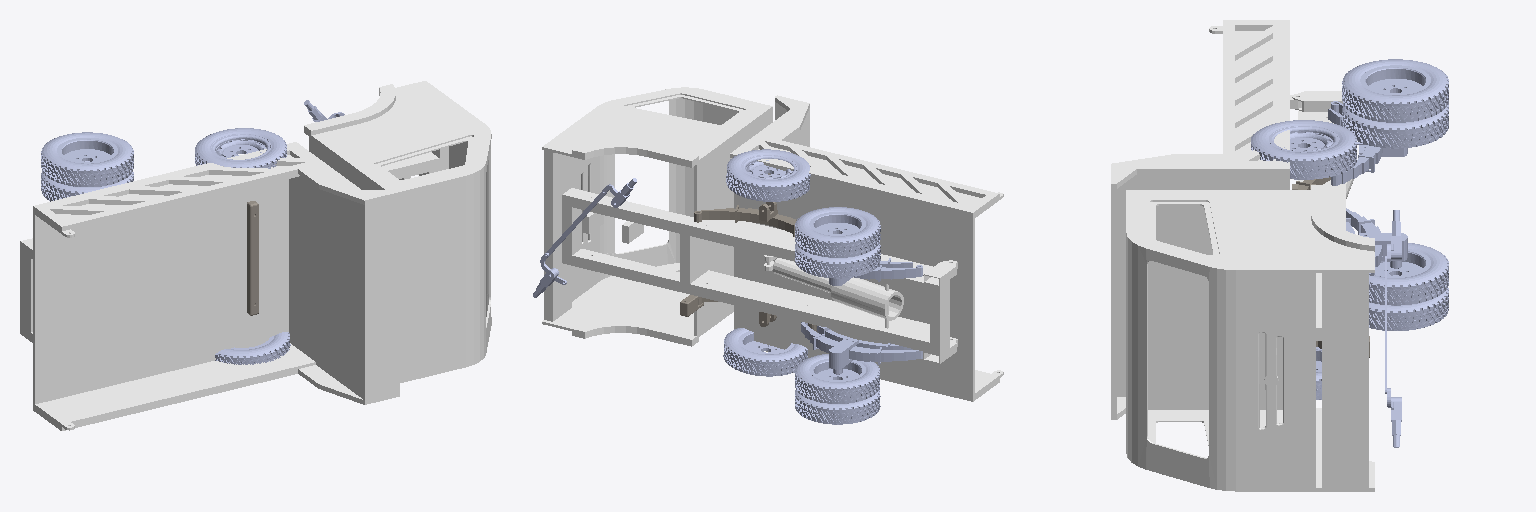
The robot description file, URDF, robot "Assem1":
<?xml version="1.0" encoding="utf-8"?>
<!-- This URDF was automatically created by SolidWorks to URDF Exporter! Originally created by [author] ([email redacted]) 
     Commit Version: 1.6.0-4-g7f85cfe  Build Version: 1.6.7995.38578
     For more information, please see http://wiki.ros.org/sw_urdf_exporter -->
<robot
  name="Assem1">
  <link
    name="base_link">
    <inertial>
      <origin
        xyz="-0.472647441390191 0.0789496187119673 -0.0328685285624268"
        rpy="0 0 0" />
      <mass
        value="0.422184039657028" />
      <inertia
        ixx="0.000320826217154303"
        ixy="4.20879745539875E-05"
        ixz="7.16279846938345E-05"
        iyy="0.00561040931161564"
        iyz="-1.07433119929774E-06"
        izz="0.00533913204176968" />
    </inertial>
    <visual>
      <origin
        xyz="0 0 0"
        rpy="0 0 0" />
      <geometry>
        <mesh
          filename="package://Assem1/meshes/base_link.STL" />
      </geometry>
      <material
        name="">
        <color
          rgba="1 1 1 1" />
      </material>
    </visual>
    <collision>
      <origin
        xyz="0 0 0"
        rpy="0 0 0" />
      <geometry>
        <mesh
          filename="package://Assem1/meshes/base_link.STL" />
      </geometry>
    </collision>
  </link>
  <link
    name="Chassis_Link">
    <inertial>
      <origin
        xyz="-0.472647441390191 0.0789496187119673 -0.0328685285624268"
        rpy="0 0 0" />
      <mass
        value="0.422184039657028" />
      <inertia
        ixx="0.000320826217154303"
        ixy="4.20879745539875E-05"
        ixz="7.16279846938345E-05"
        iyy="0.00561040931161564"
        iyz="-1.07433119929774E-06"
        izz="0.00533913204176968" />
    </inertial>
    <visual>
      <origin
        xyz="0 0 0"
        rpy="0 0 0" />
      <geometry>
        <mesh
          filename="package://Assem1/meshes/Chassis_Link.STL" />
      </geometry>
      <material
        name="">
        <color
          rgba="1 1 1 1" />
      </material>
    </visual>
    <collision>
      <origin
        xyz="0 0 0"
        rpy="0 0 0" />
      <geometry>
        <mesh
          filename="package://Assem1/meshes/Chassis_Link.STL" />
      </geometry>
    </collision>
  </link>
  <joint
    name="Chassis_Joint"
    type="fixed">
    <origin
      xyz="-0.060804 -0.021978 0.029871"
      rpy="3.1416 0 0" />
    <parent
      link="base_link" />
    <child
      link="Chassis_Link" />
    <axis
      xyz="0 0 0" />
  </joint>
  <link
    name="Cabin_Link">
    <inertial>
      <origin
        xyz="-0.472647441390191 0.0789496187119673 -0.0328685285624268"
        rpy="0 0 0" />
      <mass
        value="0.422184039657028" />
      <inertia
        ixx="0.000320826217154303"
        ixy="4.20879745539875E-05"
        ixz="7.16279846938345E-05"
        iyy="0.00561040931161564"
        iyz="-1.07433119929774E-06"
        izz="0.00533913204176968" />
    </inertial>
    <visual>
      <origin
        xyz="0 0 0"
        rpy="0 0 0" />
      <geometry>
        <mesh
          filename="package://Assem1/meshes/Cabin_Link.STL" />
      </geometry>
      <material
        name="">
        <color
          rgba="1 1 1 1" />
      </material>
    </visual>
    <collision>
      <origin
        xyz="0 0 0"
        rpy="0 0 0" />
      <geometry>
        <mesh
          filename="package://Assem1/meshes/Cabin_Link.STL" />
      </geometry>
    </collision>
  </link>
  <joint
    name="Cabin_Joint"
    type="fixed">
    <origin
      xyz="0.4575 -0.065 0.047"
      rpy="0 1.5708 0" />
    <parent
      link="Chassis_Link" />
    <child
      link="Cabin_Link" />
    <axis
      xyz="0 0 0" />
  </joint>
  <link
    name="Front_Link">
    <inertial>
      <origin
        xyz="-0.472647441390191 0.0789496187119673 -0.0328685285624268"
        rpy="0 0 0" />
      <mass
        value="0.422184039657028" />
      <inertia
        ixx="0.000320826217154303"
        ixy="4.20879745539875E-05"
        ixz="7.16279846938345E-05"
        iyy="0.00561040931161564"
        iyz="-1.07433119929774E-06"
        izz="0.00533913204176968" />
    </inertial>
    <visual>
      <origin
        xyz="0 0 0"
        rpy="0 0 0" />
      <geometry>
        <mesh
          filename="package://Assem1/meshes/Front_Link.STL" />
      </geometry>
      <material
        name="">
        <color
          rgba="0.647058823529412 0.619607843137255 0.588235294117647 1" />
      </material>
    </visual>
    <collision>
      <origin
        xyz="0 0 0"
        rpy="0 0 0" />
      <geometry>
        <mesh
          filename="package://Assem1/meshes/Front_Link.STL" />
      </geometry>
    </collision>
  </link>
  <joint
    name="Front_Joint"
    type="fixed">
    <origin
      xyz="0.285 -0.044 0.008"
      rpy="3.1416 -1.5708 0" />
    <parent
      link="Chassis_Link" />
    <child
      link="Front_Link" />
    <axis
      xyz="0 0 0" />
  </joint>
  <link
    name="Front_Wheel_Link">
    <inertial>
      <origin
        xyz="-0.472647441390191 0.0789496187119673 -0.0328685285624268"
        rpy="0 0 0" />
      <mass
        value="0.422184039657028" />
      <inertia
        ixx="0.000320826217154303"
        ixy="4.20879745539875E-05"
        ixz="7.16279846938345E-05"
        iyy="0.00561040931161564"
        iyz="-1.07433119929774E-06"
        izz="0.00533913204176968" />
    </inertial>
    <visual>
      <origin
        xyz="0 0 0"
        rpy="0 0 0" />
      <geometry>
        <mesh
          filename="package://Assem1/meshes/Front_Wheel_Link.STL" />
      </geometry>
      <material
        name="">
        <color
          rgba="0.792156862745098 0.819607843137255 0.933333333333333 1" />
      </material>
    </visual>
    <collision>
      <origin
        xyz="0 0 0"
        rpy="0 0 0" />
      <geometry>
        <mesh
          filename="package://Assem1/meshes/Front_Wheel_Link.STL" />
      </geometry>
    </collision>
  </link>
  <joint
    name="Front_Wheel_Joint"
    type="continuous">
    <origin
      xyz="-0.20525 -0.054331 -0.040912"
      rpy="2.2065 0.26123 1.7591" />
    <parent
      link="Front_Link" />
    <child
      link="Front_Wheel_Link" />
    <axis
      xyz="0 0 0" />
  </joint>
  <link
    name="Rear_Link">
    <inertial>
      <origin
        xyz="-0.472647441390191 0.0789496187119673 -0.0328685285624268"
        rpy="0 0 0" />
      <mass
        value="0.422184039657028" />
      <inertia
        ixx="0.000320826217154303"
        ixy="4.20879745539875E-05"
        ixz="7.16279846938345E-05"
        iyy="0.00561040931161564"
        iyz="-1.07433119929774E-06"
        izz="0.00533913204176968" />
    </inertial>
    <visual>
      <origin
        xyz="0 0 0"
        rpy="0 0 0" />
      <geometry>
        <mesh
          filename="package://Assem1/meshes/Rear_Link.STL" />
      </geometry>
      <material
        name="">
        <color
          rgba="0.792156862745098 0.819607843137255 0.933333333333333 1" />
      </material>
    </visual>
    <collision>
      <origin
        xyz="0 0 0"
        rpy="0 0 0" />
      <geometry>
        <mesh
          filename="package://Assem1/meshes/Rear_Link.STL" />
      </geometry>
    </collision>
  </link>
  <joint
    name="Rear_Joint"
    type="fixed">
    <origin
      xyz="0.09 -0.082463 -0.079"
      rpy="3.1416 0 3.1416" />
    <parent
      link="Chassis_Link" />
    <child
      link="Rear_Link" />
    <axis
      xyz="0 0 0" />
  </joint>
  <link
    name="Rear_Wheel_Link">
    <inertial>
      <origin
        xyz="-0.472647441390191 0.0789496187119673 -0.0328685285624268"
        rpy="0 0 0" />
      <mass
        value="0.422184039657028" />
      <inertia
        ixx="0.000320826217154303"
        ixy="4.20879745539875E-05"
        ixz="7.16279846938345E-05"
        iyy="0.00561040931161564"
        iyz="-1.07433119929774E-06"
        izz="0.00533913204176968" />
    </inertial>
    <visual>
      <origin
        xyz="0 0 0"
        rpy="0 0 0" />
      <geometry>
        <mesh
          filename="package://Assem1/meshes/Rear_Wheel_Link.STL" />
      </geometry>
      <material
        name="">
        <color
          rgba="0.792156862745098 0.819607843137255 0.933333333333333 1" />
      </material>
    </visual>
    <collision>
      <origin
        xyz="0 0 0"
        rpy="0 0 0" />
      <geometry>
        <mesh
          filename="package://Assem1/meshes/Rear_Wheel_Link.STL" />
      </geometry>
    </collision>
  </link>
  <joint
    name="Rear_Wheel_Joint"
    type="continuous">
    <origin
      xyz="0 0 0"
      rpy="-3.1416 0 -2.7398" />
    <parent
      link="Rear_Link" />
    <child
      link="Rear_Wheel_Link" />
    <axis
      xyz="0 0 1" />
  </joint>
  <link
    name="Trunk_Link">
    <inertial>
      <origin
        xyz="-0.472647441390191 0.0789496187119673 -0.0328685285624268"
        rpy="0 0 0" />
      <mass
        value="0.422184039657028" />
      <inertia
        ixx="0.000320826217154303"
        ixy="4.20879745539875E-05"
        ixz="7.16279846938345E-05"
        iyy="0.00561040931161564"
        iyz="-1.07433119929774E-06"
        izz="0.00533913204176968" />
    </inertial>
    <visual>
      <origin
        xyz="0 0 0"
        rpy="0 0 0" />
      <geometry>
        <mesh
          filename="package://Assem1/meshes/Trunk_Link.STL" />
      </geometry>
      <material
        name="">
        <color
          rgba="1 1 1 1" />
      </material>
    </visual>
    <collision>
      <origin
        xyz="0 0 0"
        rpy="0 0 0" />
      <geometry>
        <mesh
          filename="package://Assem1/meshes/Trunk_Link.STL" />
      </geometry>
    </collision>
  </link>
  <joint
    name="Trunk_Joint"
    type="revolute">
    <origin
      xyz="0 0 0"
      rpy="0 0 0" />
    <parent
      link="Chassis_Link" />
    <child
      link="Trunk_Link" />
    <axis
      xyz="0 0 1" />
    <limit
      lower="0"
      upper="0.87266"
      effort="0"
      velocity="0" />
  </joint>
  <link
    name="Caster_Link">
    <inertial>
      <origin
        xyz="-0.472647441390191 0.0789496187119673 -0.0328685285624268"
        rpy="0 0 0" />
      <mass
        value="0.422184039657028" />
      <inertia
        ixx="0.000320826217154303"
        ixy="4.20879745539875E-05"
        ixz="7.16279846938345E-05"
        iyy="0.00561040931161564"
        iyz="-1.07433119929774E-06"
        izz="0.00533913204176968" />
    </inertial>
    <visual>
      <origin
        xyz="0 0 0"
        rpy="0 0 0" />
      <geometry>
        <mesh
          filename="package://Assem1/meshes/Caster_Link.STL" />
      </geometry>
      <material
        name="">
        <color
          rgba="0.792156862745098 0.819607843137255 0.933333333333333 1" />
      </material>
    </visual>
    <collision>
      <origin
        xyz="0 0 0"
        rpy="0 0 0" />
      <geometry>
        <mesh
          filename="package://Assem1/meshes/Caster_Link.STL" />
      </geometry>
    </collision>
  </link>
  <joint
    name="Caster_Joint"
    type="revolute">
    <origin
      xyz="0.29739 0.065985 0.14011"
      rpy="-1.5708 0.61087 -3.1416" />
    <parent
      link="base_link" />
    <child
      link="Caster_Link" />
    <axis
      xyz="0 0 0" />
    <limit
      lower="0"
      upper="0"
      effort="0"
      velocity="0" />
  </joint>
</robot>

--- What the picture shows (computed from the rendered views, not written in the file) ---
Views: 3 orthographic renders of the robot side by side, from view 1: azimuth 30°, elevation 25°; view 2: azimuth 150°, elevation 25°; view 3: azimuth 270°, elevation 25°.
Robot: Assem1 — 9 links, 8 joints (2 revolute, 2 continuous, 4 fixed); root link base_link; default pose: all joints at 0.
Visible links, largest first — view 1: Trunk_Link, Cabin_Link, Rear_Wheel_Link, Front_Wheel_Link, Chassis_Link, Front_Link; view 2: Cabin_Link, Trunk_Link, Chassis_Link, Rear_Wheel_Link, Front_Wheel_Link, Rear_Link, Front_Link, Caster_Link; view 3: Cabin_Link, Trunk_Link, Rear_Wheel_Link, Front_Wheel_Link, Rear_Link, Chassis_Link, Caster_Link.
Link boxes in pixels (x1=…): Trunk_Link: x1=33, y1=142, x2=399, y2=430; Cabin_Link: x1=304, y1=81, x2=491, y2=382; Rear_Wheel_Link: x1=41, y1=132, x2=133, y2=201; Front_Wheel_Link: x1=195, y1=128, x2=290, y2=364; Chassis_Link: x1=20, y1=152, x2=439, y2=342; Front_Link: x1=247, y1=201, x2=258, y2=315; Cabin_Link: x1=542, y1=87, x2=772, y2=346; Trunk_Link: x1=730, y1=95, x2=1003, y2=401; Chassis_Link: x1=562, y1=188, x2=956, y2=363; Rear_Wheel_Link: x1=795, y1=207, x2=880, y2=424; Front_Wheel_Link: x1=723, y1=149, x2=810, y2=376; Rear_Link: x1=801, y1=258, x2=922, y2=374; Front_Link: x1=680, y1=202, x2=816, y2=331; Caster_Link: x1=533, y1=178, x2=636, y2=297; Cabin_Link: x1=1126, y1=185, x2=1374, y2=491; Trunk_Link: x1=1111, y1=20, x2=1353, y2=419; Rear_Wheel_Link: x1=1342, y1=59, x2=1448, y2=330; Front_Wheel_Link: x1=1251, y1=120, x2=1356, y2=399; Rear_Link: x1=1328, y1=101, x2=1407, y2=275; Chassis_Link: x1=1292, y1=91, x2=1345, y2=340; Caster_Link: x1=1385, y1=210, x2=1401, y2=447.
Bounding box of the posed robot: 0.484 × 0.2855 × 0.2294 m (x, y, z).
Meshes: 9 distinct files referenced, 8 mesh visuals loaded (8 binary STL); not drawn: 1 (file found but could not be loaded).
